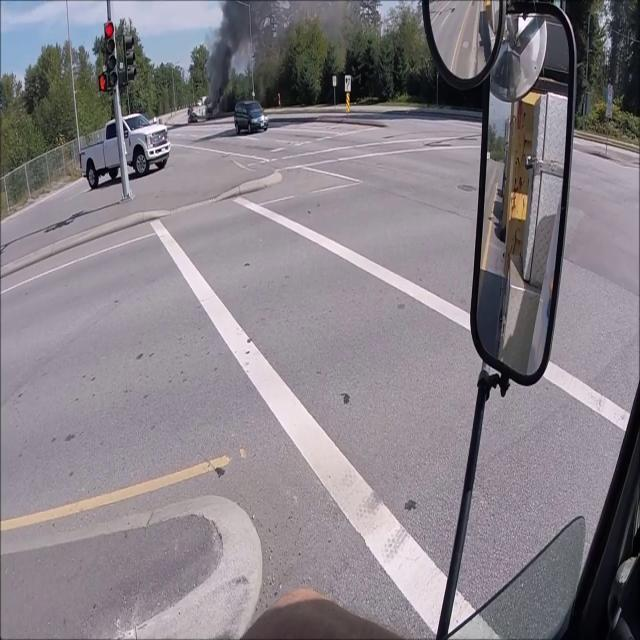Smoke: (203, 0, 258, 101)
